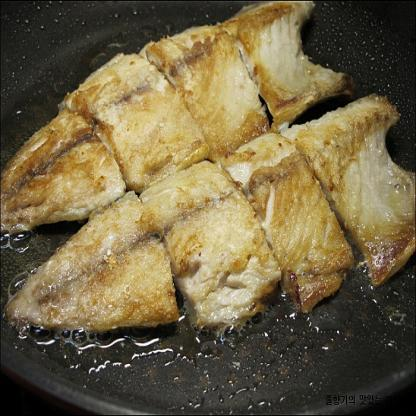Peixe: (0, 0, 413, 349)
